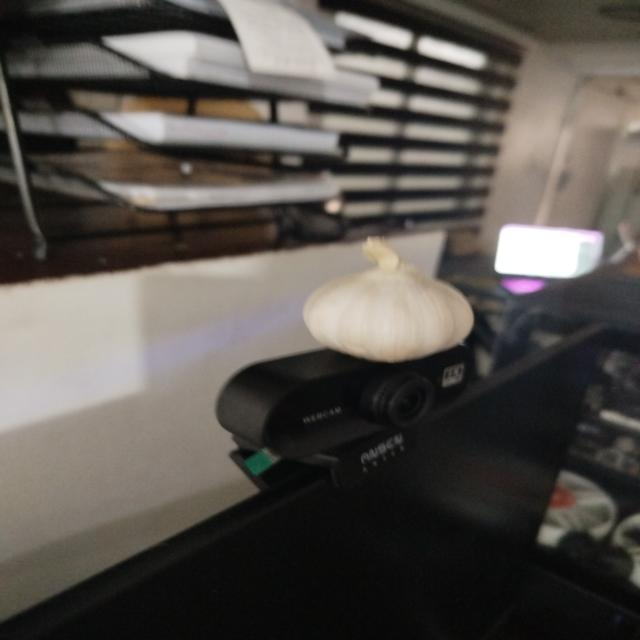garlic: (302, 235, 475, 363)
